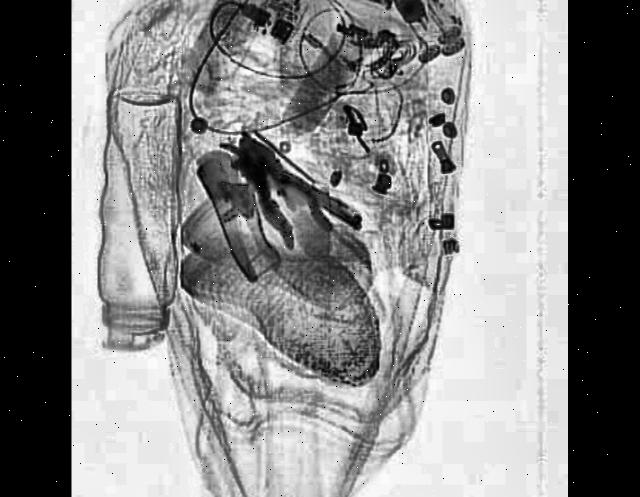Pliers: (227, 116, 341, 272)
